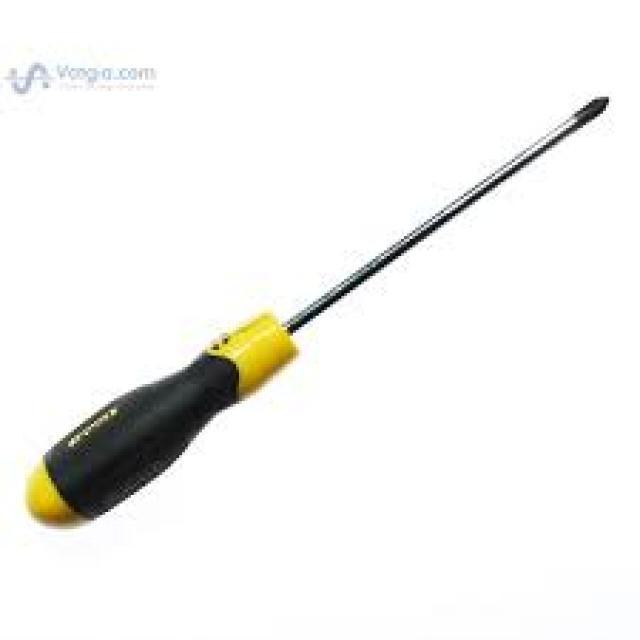screwdriver: (22, 96, 612, 538)
